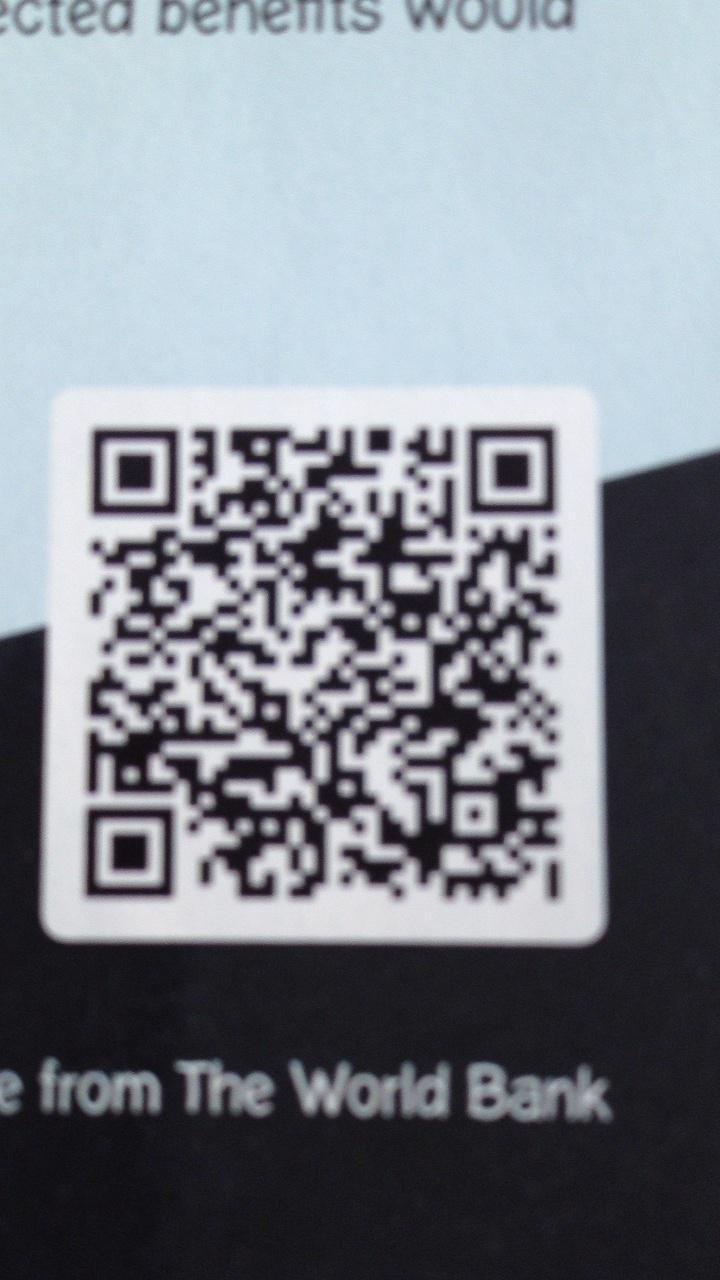qr_code: (87, 428, 561, 900)
